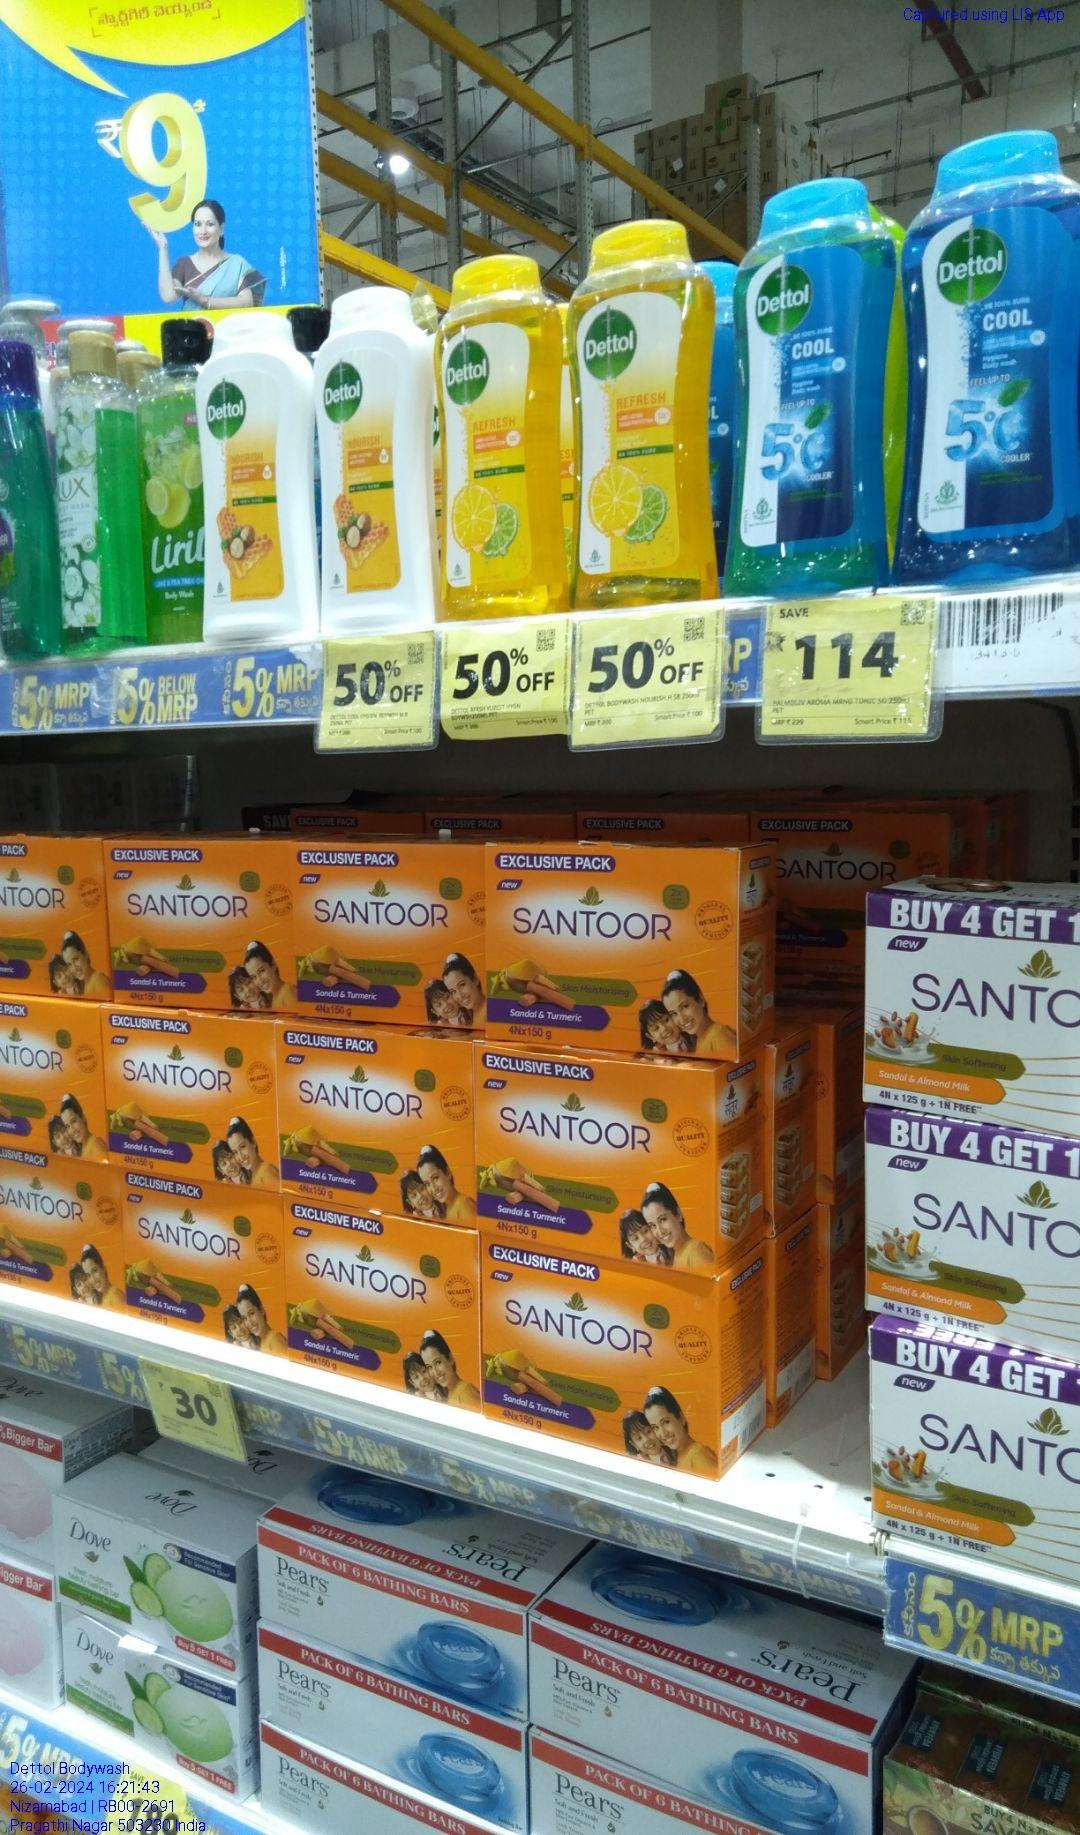Dettol_Bodywash_Cool: (909, 131, 1080, 603), (733, 176, 887, 598)
Dettol_Bodywash_Refresh: (570, 216, 715, 612), (438, 251, 566, 623)
Dettol_Nourish_Body_Wash_250ML: (312, 278, 433, 648), (199, 307, 310, 640)
Liril_Lime_and_Tea_Tree_Oil_Body_Wash_250ML: (135, 319, 199, 644)
Lux_Body_Wash_Skin_Detox_Freesia_Scent_and_Alove_Vera_245ML: (53, 321, 120, 653)
